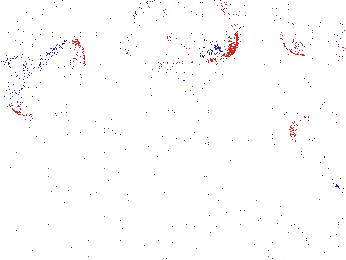moon jellyfish: (116, 1, 239, 61), (8, 39, 86, 118), (167, 5, 248, 77), (290, 115, 346, 187), (279, 1, 346, 56)
